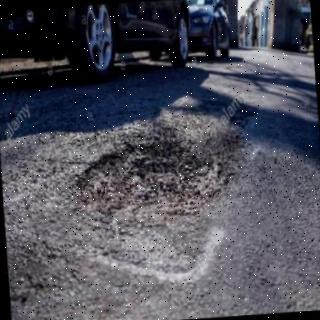pothole: (76, 141, 221, 216)
